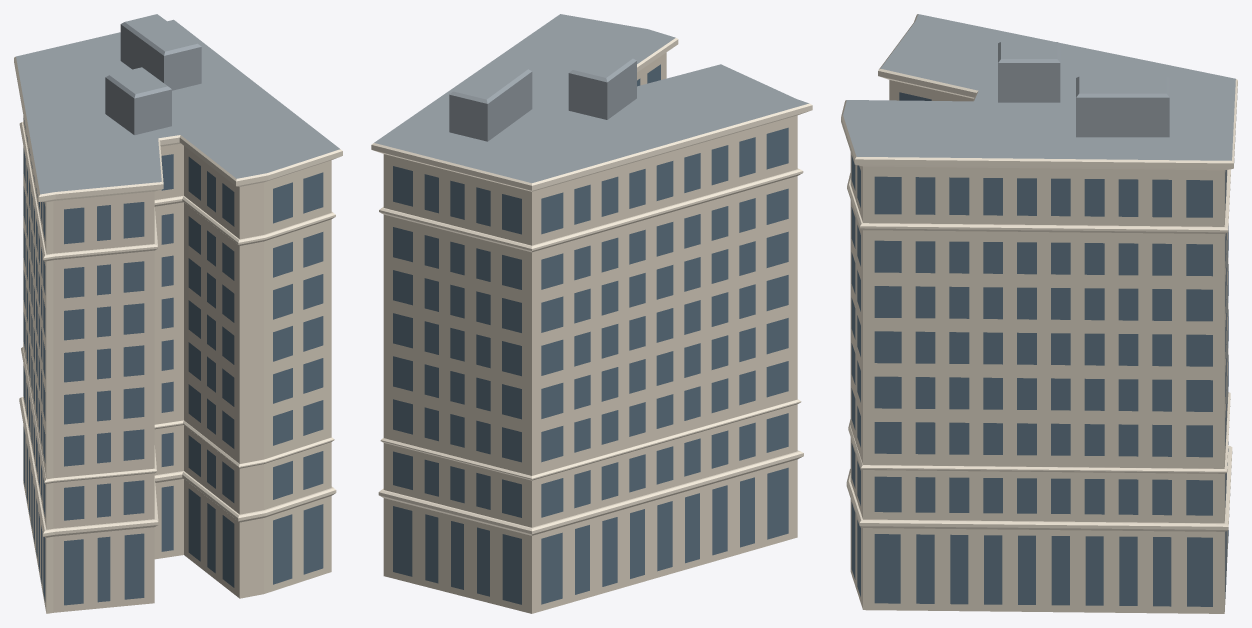
Rendered from atl-candler-building.glb.
3 views of the same model, side by side, from view 1: azimuth 30°, elevation 25°; view 2: azimuth 150°, elevation 25°; view 3: azimuth 270°, elevation 25° (orthographic). The views are drawn at different scales.
Visible parts, largest first — view 1: Candler Building; view 2: Candler Building; view 3: Candler Building.
Boxes of the visible parts, left/top/right/bottom form: Candler Building: left=14, top=14, right=342, bottom=613; Candler Building: left=371, top=14, right=812, bottom=613; Candler Building: left=841, top=14, right=1237, bottom=613.
Size of the model in its own units: 45.13 by 70.5 by 50.82.
